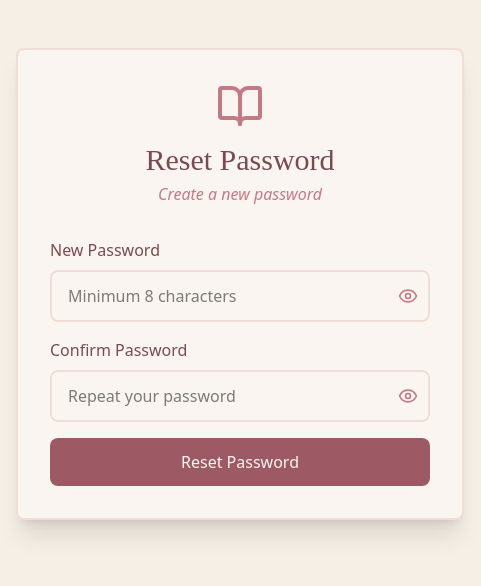
Test: submission › should show an error message on failed reset
The width and height of the screenshot is (481, 586).
Type "newpassword123" into the password field with placeholder "Minimum 8 characters" at point(240, 296), box left=50, top=270, right=430, bottom=322
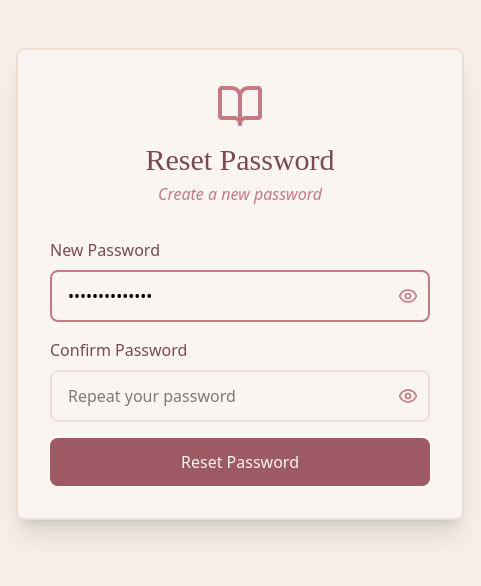
Type "newpassword123" into the password field with placeholder "Repeat your password" at point(240, 396), box left=50, top=370, right=430, bottom=422
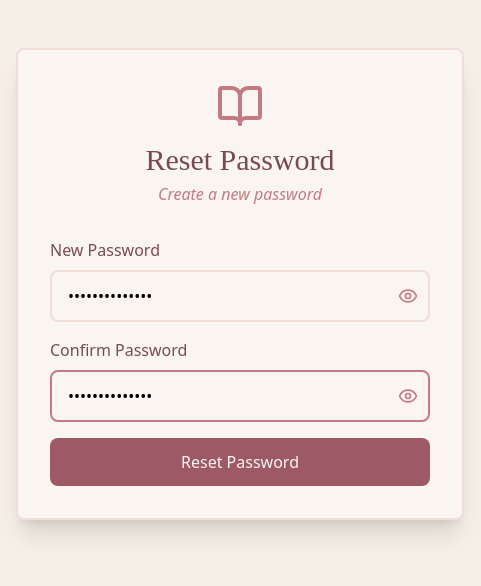
Click the button "Reset Password" at point(240, 462), box left=50, top=438, right=430, bottom=486
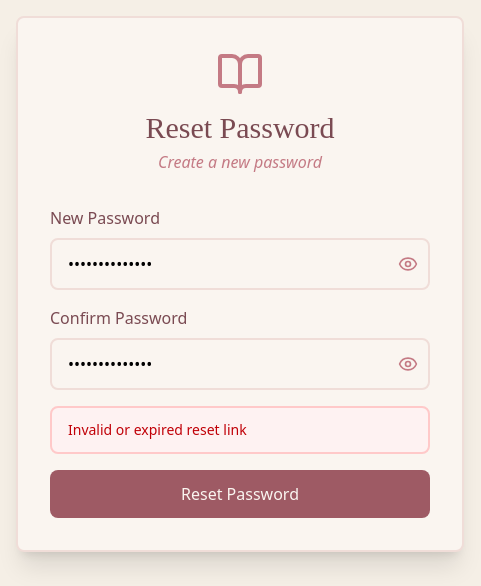
Expected: the text "Invalid or expired reset link" is shown, left=50, top=406, right=430, bottom=454
